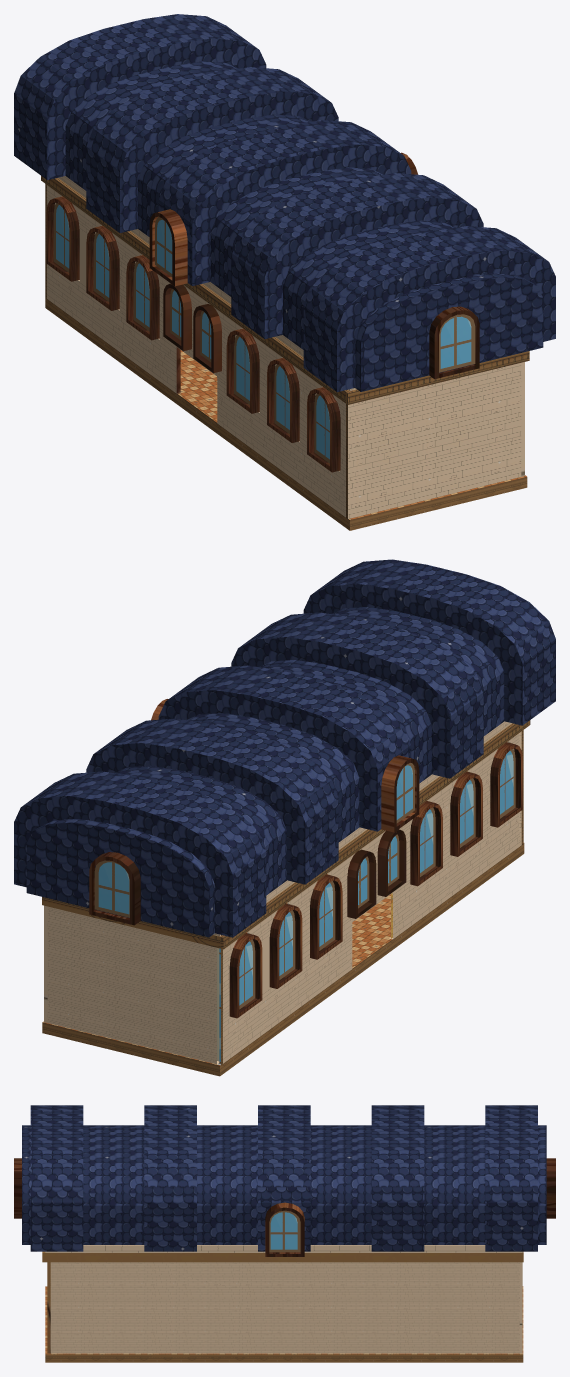
Rendered from sala2.obj.
3 renders of one model, top to bottom at view 1: azimuth 30°, elevation 25°; view 2: azimuth 150°, elevation 25°; view 3: azimuth 270°, elevation 25°, orthographic. The views are drawn at different scales.
Parts seen in each view (by area): view 1: SalaEgipcia; view 2: SalaEgipcia; view 3: SalaEgipcia.
Boxes of the visible parts, left/top/right/bottom form: SalaEgipcia: left=14, top=14, right=555, bottom=530; SalaEgipcia: left=14, top=559, right=555, bottom=1076; SalaEgipcia: left=14, top=1105, right=555, bottom=1362.
Size of the model in its own units: 14.1 by 14.11 by 34.48.
10 materials, 10 textured.
